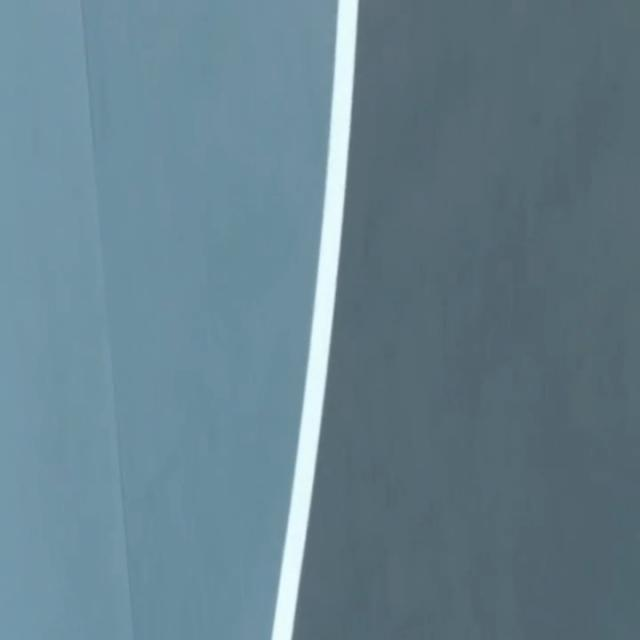left: (271, 0, 358, 639)
